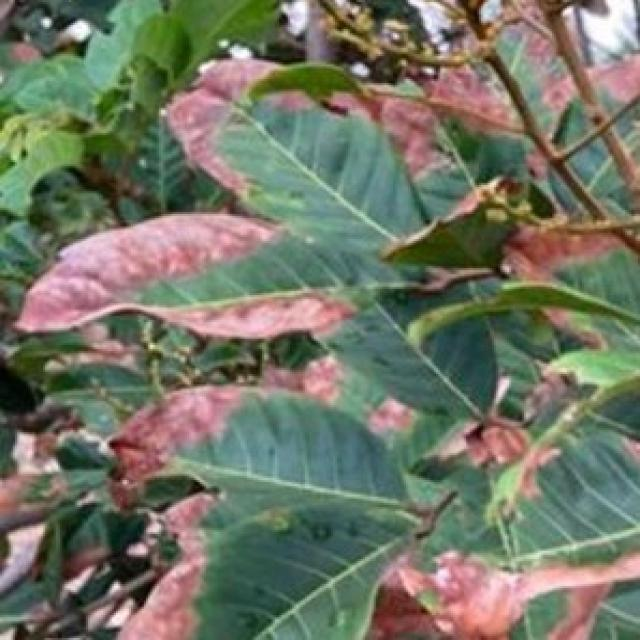Leaf Blight: (35, 204, 314, 380), (150, 38, 326, 191), (389, 532, 632, 619), (380, 38, 548, 163), (100, 496, 253, 629), (504, 189, 640, 325), (81, 393, 267, 487)
